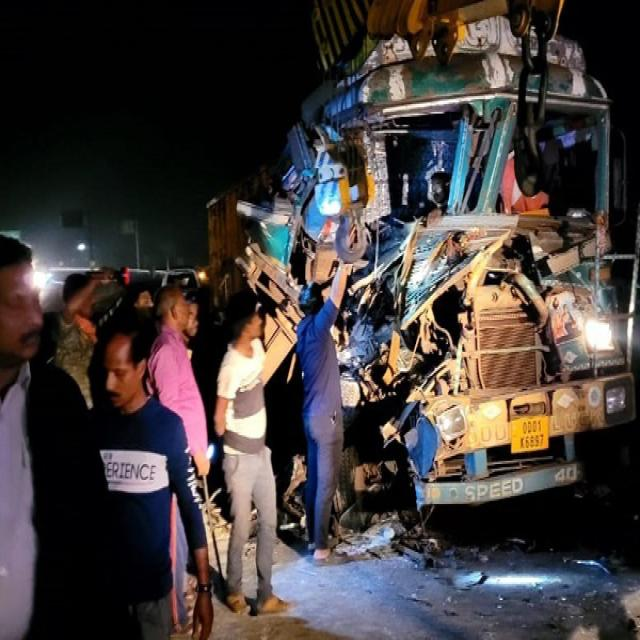accident: (236, 17, 640, 508)
